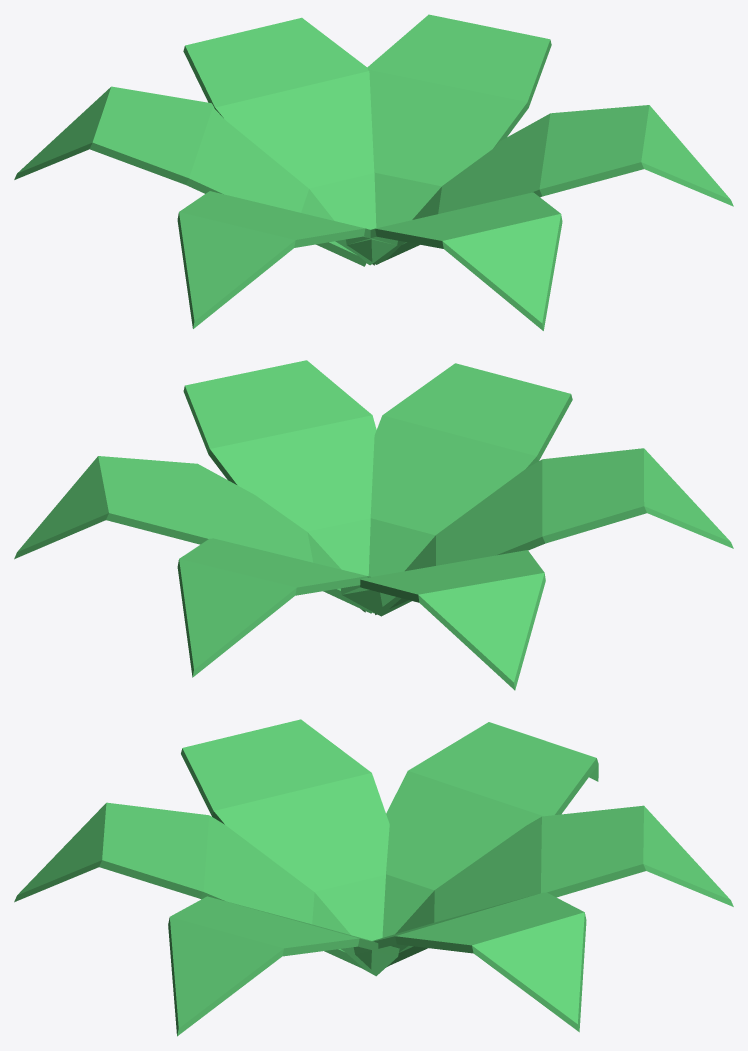
Rendered from plant_1.fbx.
3 renders of one model, top to bottom at view 1: azimuth 30°, elevation 25°; view 2: azimuth 150°, elevation 25°; view 3: azimuth 270°, elevation 25°, orthographic.
Parts seen in each view (by area): view 1: plant_1; view 2: plant_1; view 3: plant_1.
Part boxes in pixels (bbox=[...]): plant_1: bbox=[14, 14, 733, 330]; plant_1: bbox=[14, 360, 733, 690]; plant_1: bbox=[14, 719, 733, 1036].
Size of the model in its own units: 1.96 by 0.482 by 2.26.
